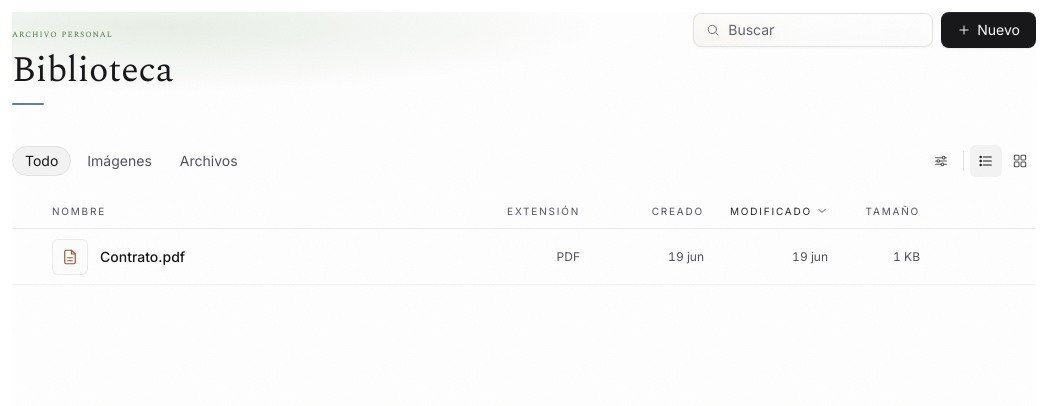
Test: <BibliotecaView /> › cambiar a cuadrícula setea ?vista= y conmuta la vista renderizada
Expected: the text "Contrato.pdf" is shown, [100,246,185,266]
Expected: the table named "Archivos" is shown, [12,193,1036,285]
Click the button named "Cuadrícula" at [1020, 161], box [1004,145,1036,177]
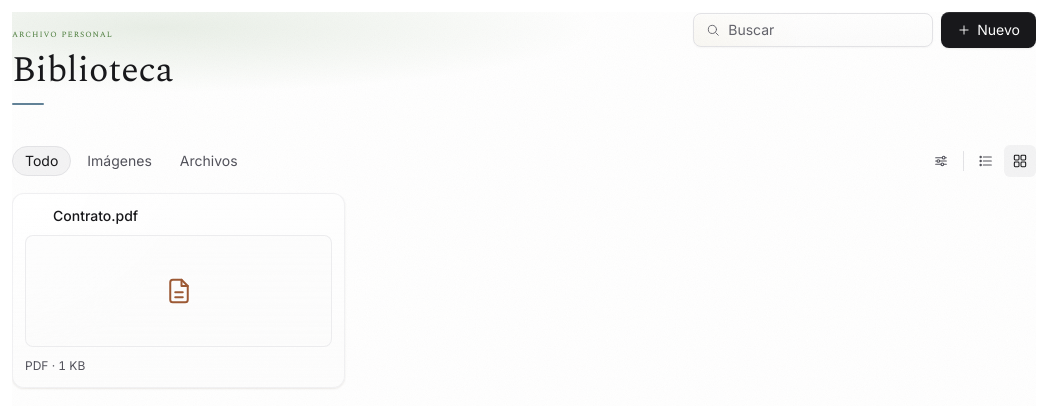
Expected: the list named "Archivos" is shown, [12,193,345,388]
